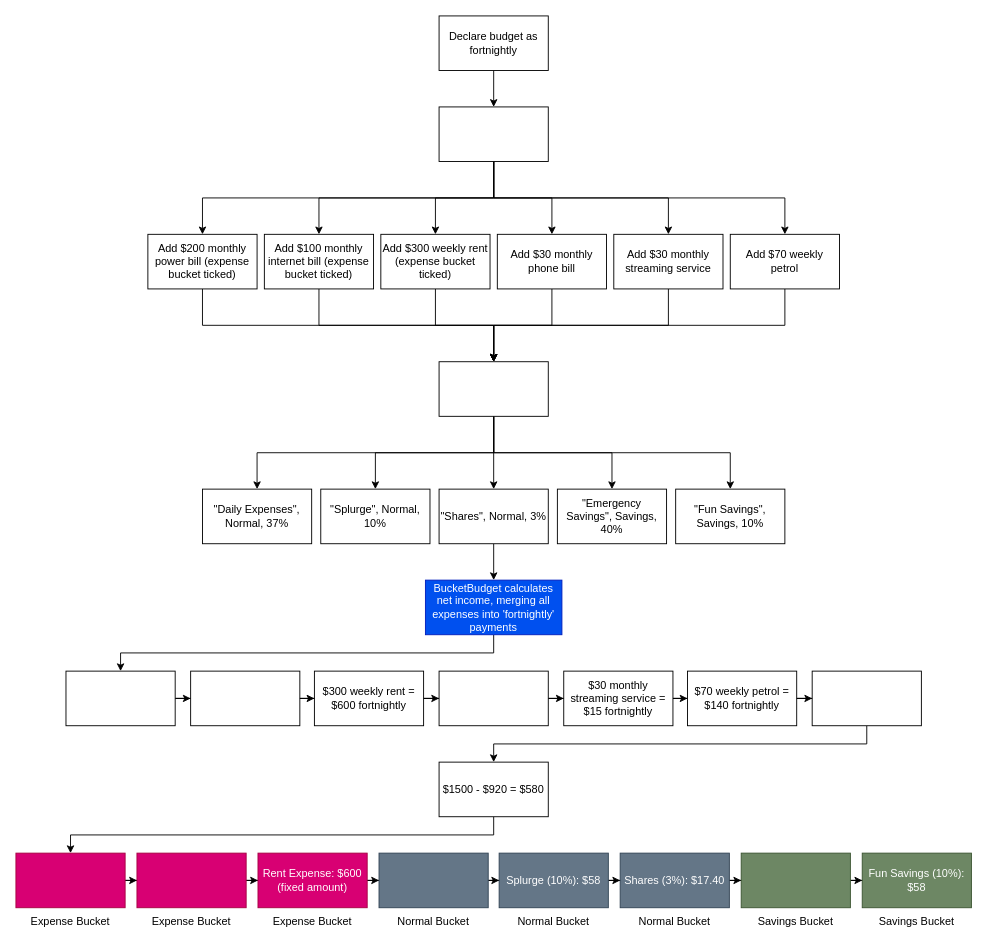
The diagram is 987 pixels wide and 951 high, and some of its shapes have lost their labels. The centre of each missing label's shape, as x and y in pixels:
"$100 monthly internet bill = $50 fortnightly" belongs at (245,698).
"$200 monthly power bill = $100 fortnightly" belongs at (120,698).
"$30 monthly phone bill = $15 fortnightly" belongs at (493,698).
"$920 total expenses fortnightly" belongs at (866,698).
"Add $1500 Fortnightly income" belongs at (493,134).
"Daily Expenses (37%): $214.60" belongs at (433,880).
"Declare buckets" belongs at (493,388).
"Emergency Savings (40%): $232" belongs at (795,880).
"Internet Bill: $50 (fixed amount)" belongs at (191,880).
"Power Bill: $100 (fixed amount)" belongs at (70,880).
